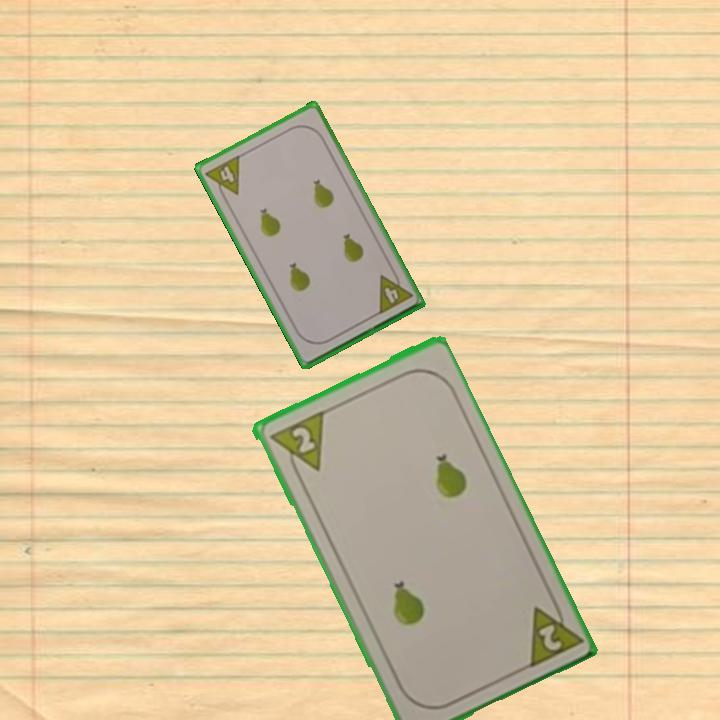2p: (264, 407, 327, 483), (522, 593, 583, 671)
4p: (201, 151, 243, 204), (374, 266, 415, 317)
